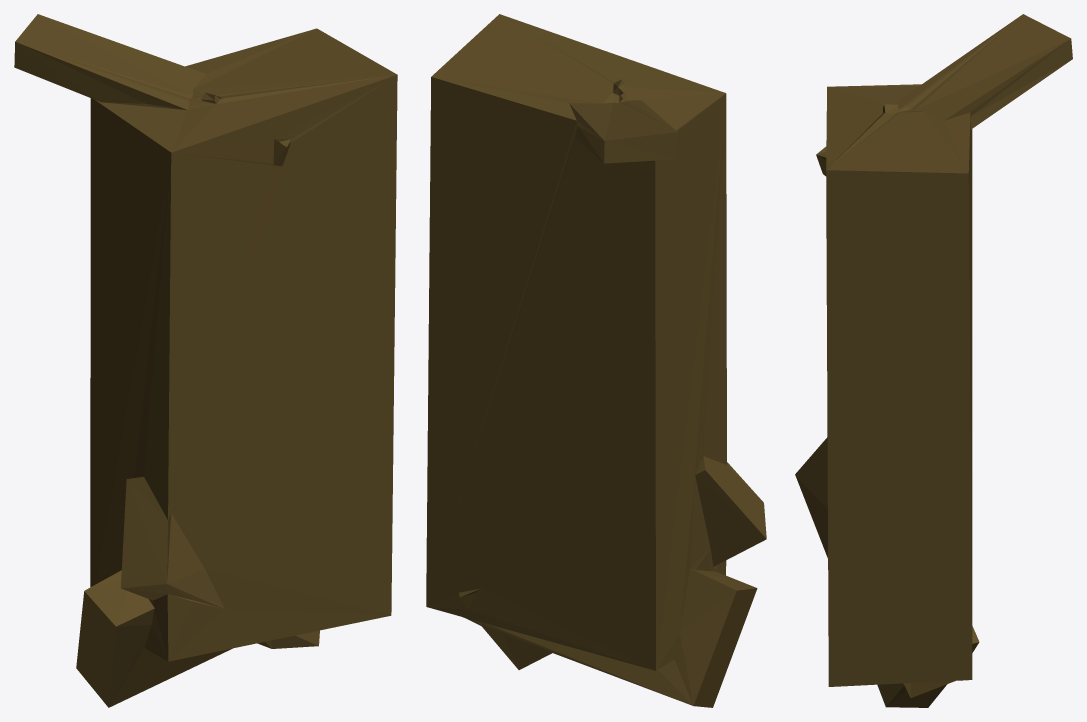
3 views of the same model, side by side, from view 1: azimuth 30°, elevation 25°; view 2: azimuth 150°, elevation 25°; view 3: azimuth 270°, elevation 25° (orthographic). The views are drawn at different scales.
Visible parts, largest first — view 1: 702_Cube.2819; view 2: 702_Cube.2819; view 3: 702_Cube.2819.
Boxes of the visible parts, box(x1,y1,x2,y2) form: 702_Cube.2819: box(14, 14, 397, 707); 702_Cube.2819: box(426, 14, 766, 707); 702_Cube.2819: box(795, 14, 1072, 707).
Size of the model in its own units: 6.66 by 14.26 by 5.97.
